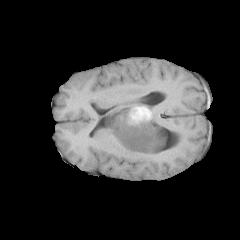glioma: (97, 103, 167, 157)
